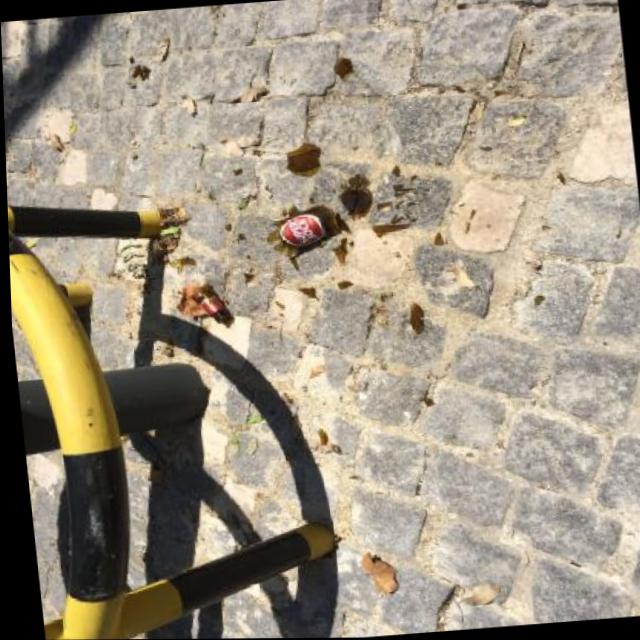glass: (264, 203, 346, 254), (187, 280, 235, 326), (338, 184, 376, 218), (284, 142, 324, 172)
